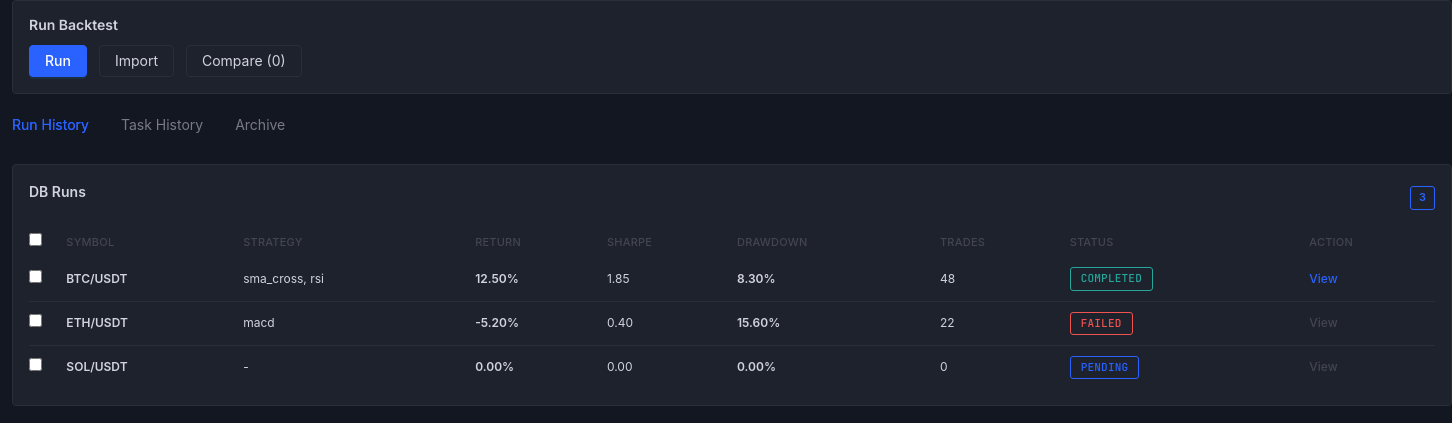
Scenario: BacktestView › selects all runs when select-all checkbox is checked
Click the checkbox next to "Symbol" at {"x": 36, "y": 240}, box [29,233,42,246]
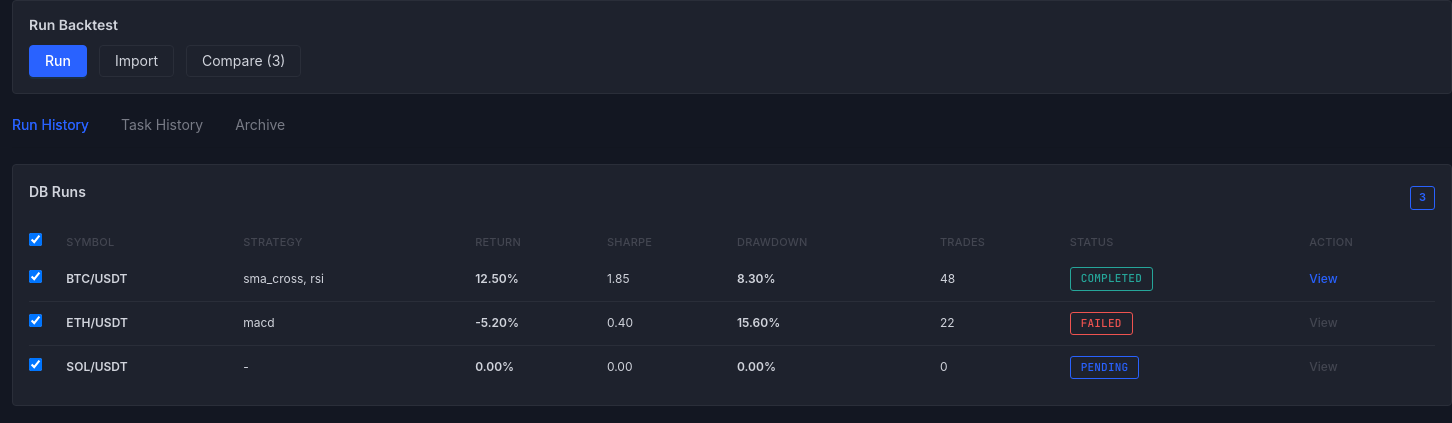
Now the button "Compare (3)" is shown, box [186,45,302,77]
